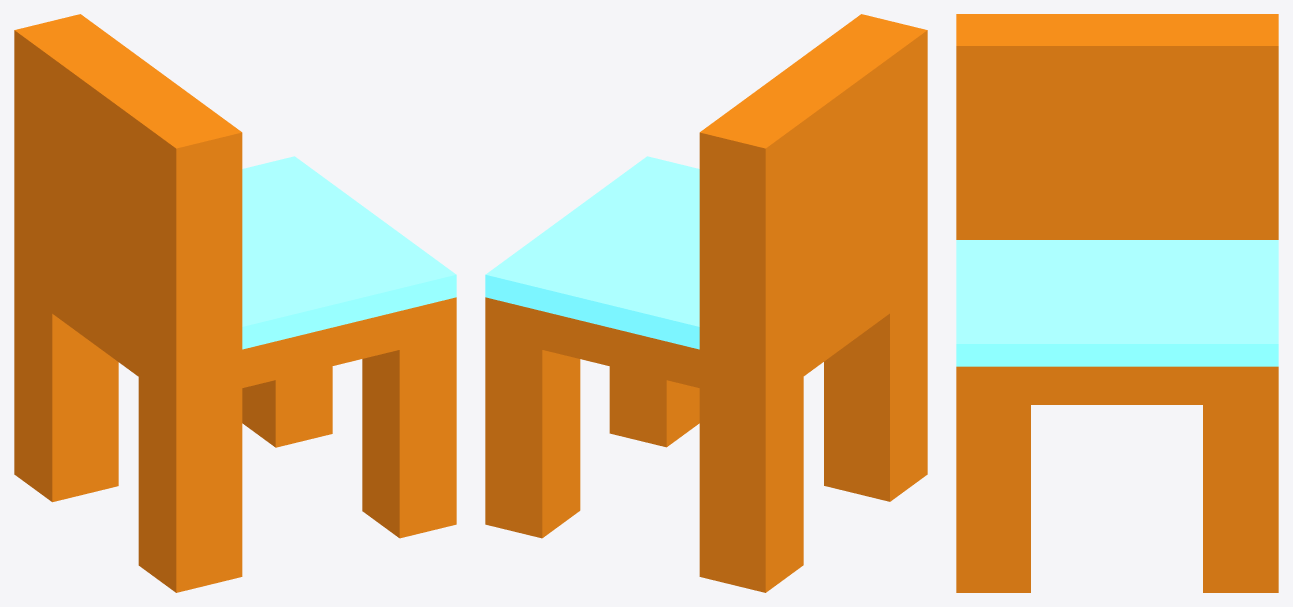
File: Chair.fbx
The picture shows the model from 3 angles, left to right: view 1: azimuth 30°, elevation 25°; view 2: azimuth 150°, elevation 25°; view 3: azimuth 270°, elevation 25°; orthographic projection.
Visible parts, largest first — view 1: Cube_1; view 2: Cube_1; view 3: Cube_1.
Part boxes in pixels (left/top/right/bottom): Cube_1: left=14, top=14, right=456, bottom=592; Cube_1: left=485, top=14, right=927, bottom=592; Cube_1: left=956, top=14, right=1278, bottom=592.
Size of the model in its own units: 200 by 303 by 200.
